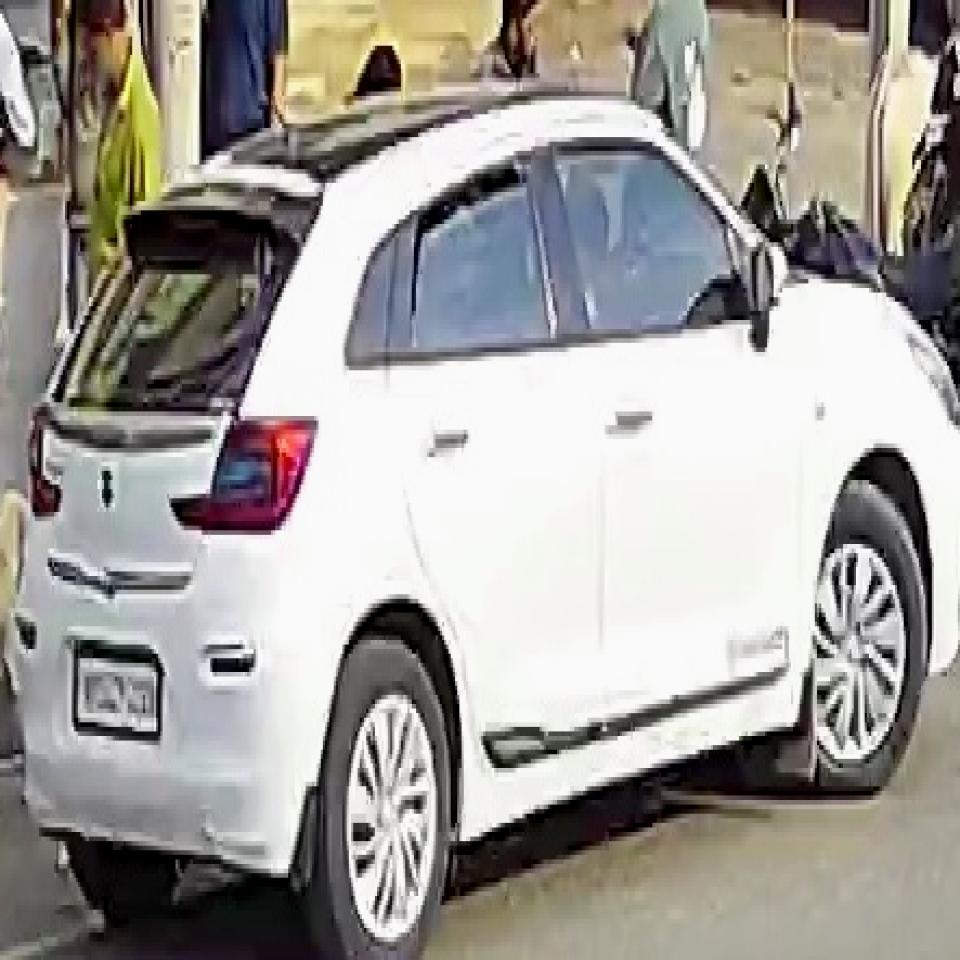tail_light: (209, 413, 321, 543)
